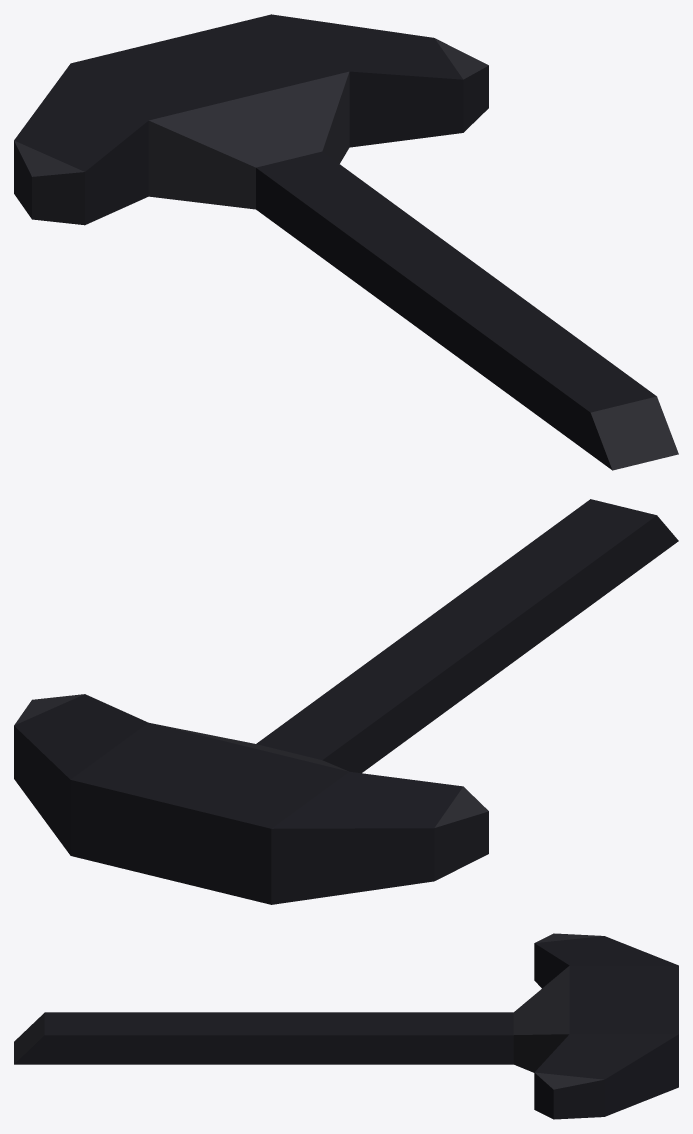
The model's file is MW1_ChargingHandle_5.56mm_01.fbx.
The picture shows the model from 3 angles, top to bottom: view 1: azimuth 30°, elevation 25°; view 2: azimuth 150°, elevation 25°; view 3: azimuth 270°, elevation 25°; orthographic projection. The views are drawn at different scales.
Visible parts, largest first — view 1: ChargingHandle_5.56mm_01; view 2: ChargingHandle_5.56mm_01; view 3: ChargingHandle_5.56mm_01.
Part boxes in pixels (<box>): ChargingHandle_5.56mm_01: <box>14,14,678,470</box>; ChargingHandle_5.56mm_01: <box>14,499,678,904</box>; ChargingHandle_5.56mm_01: <box>14,933,678,1119</box>.
Bounding box in the file's own units: 7.62 × 1.21 × 13.71.
